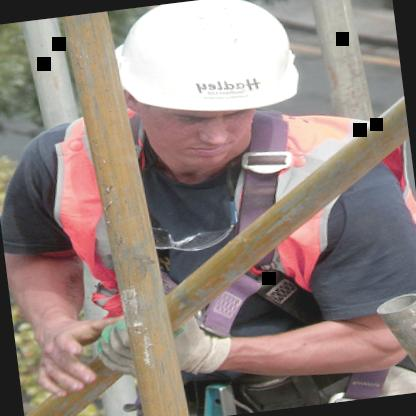helmet: (87, 0, 330, 186)
